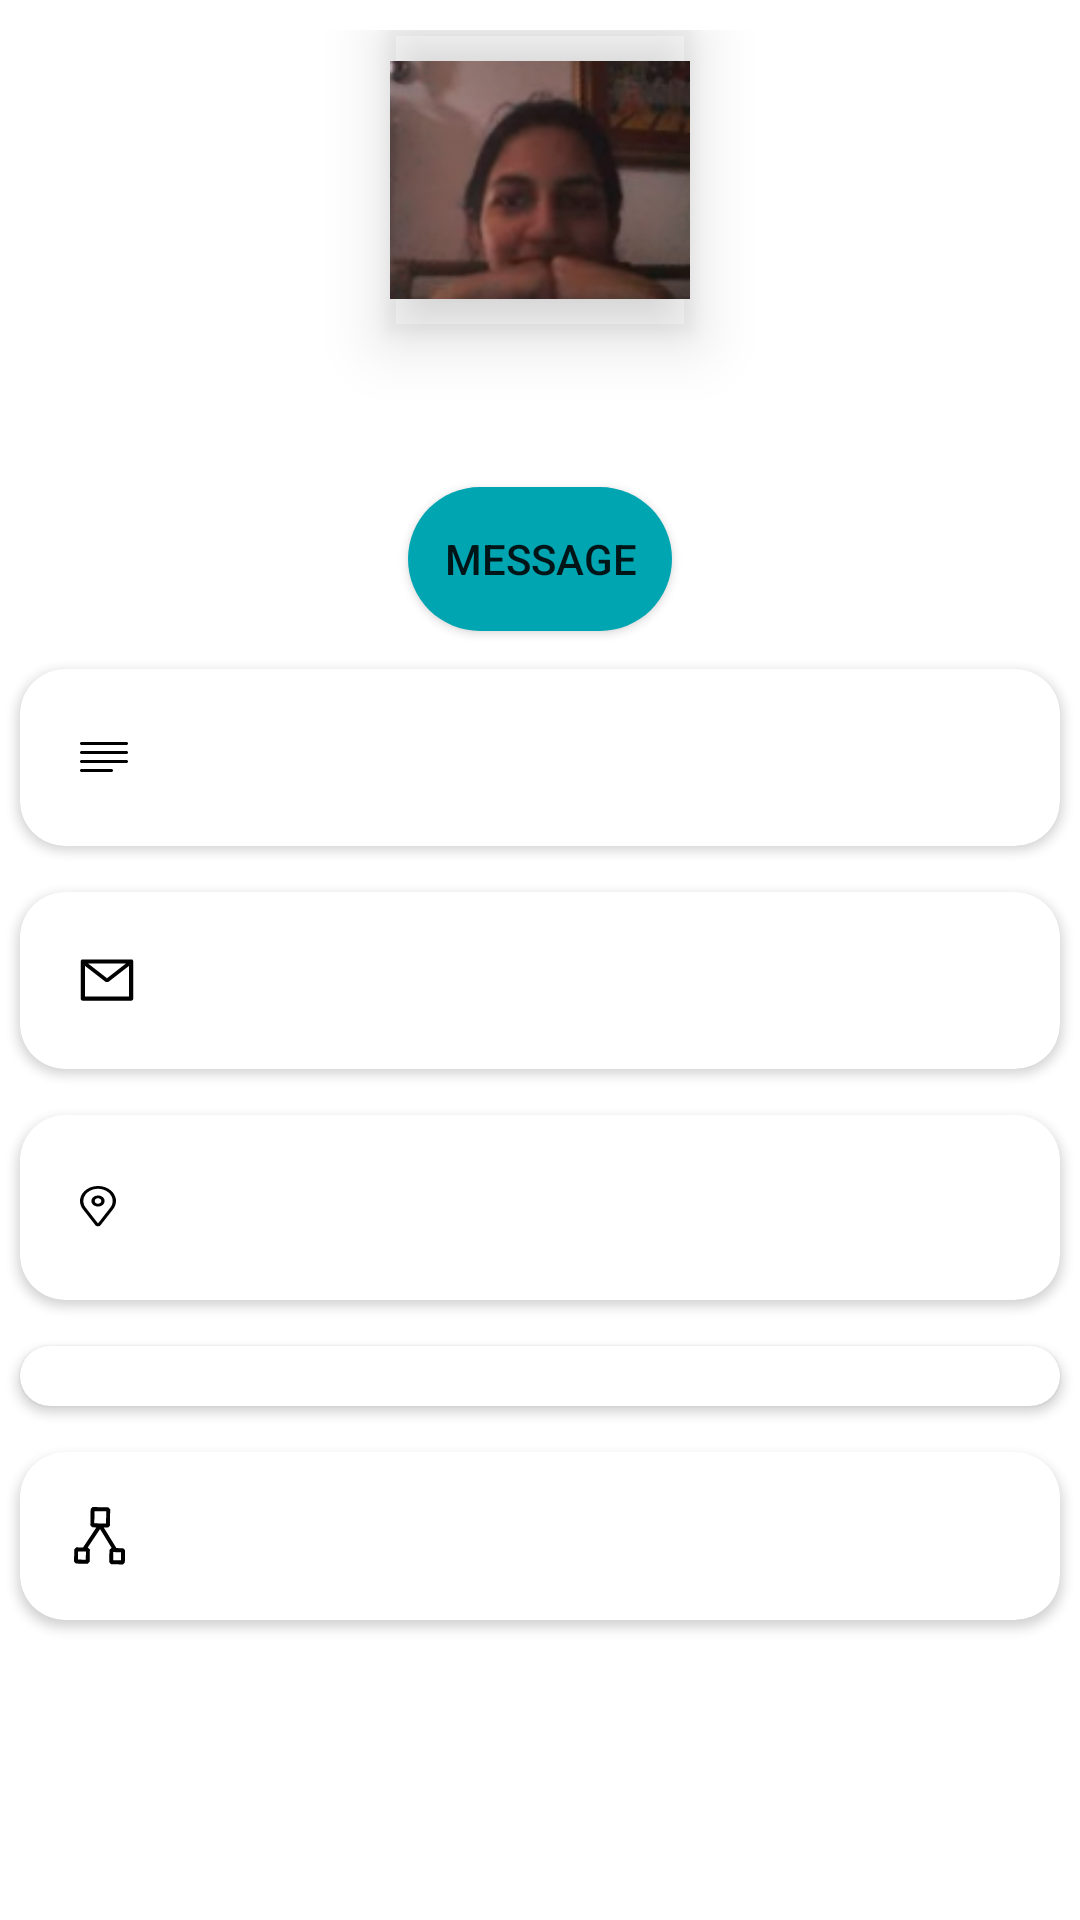

Icons on this 1080 × 1920 Android screen, each with its box as (x1, y1, x2, y2):
profilepic: (390, 61, 690, 299)
